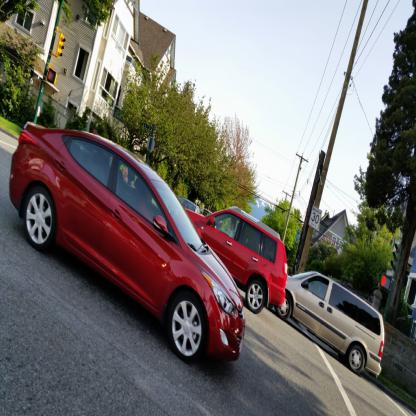Car: (9, 122, 383, 380)
